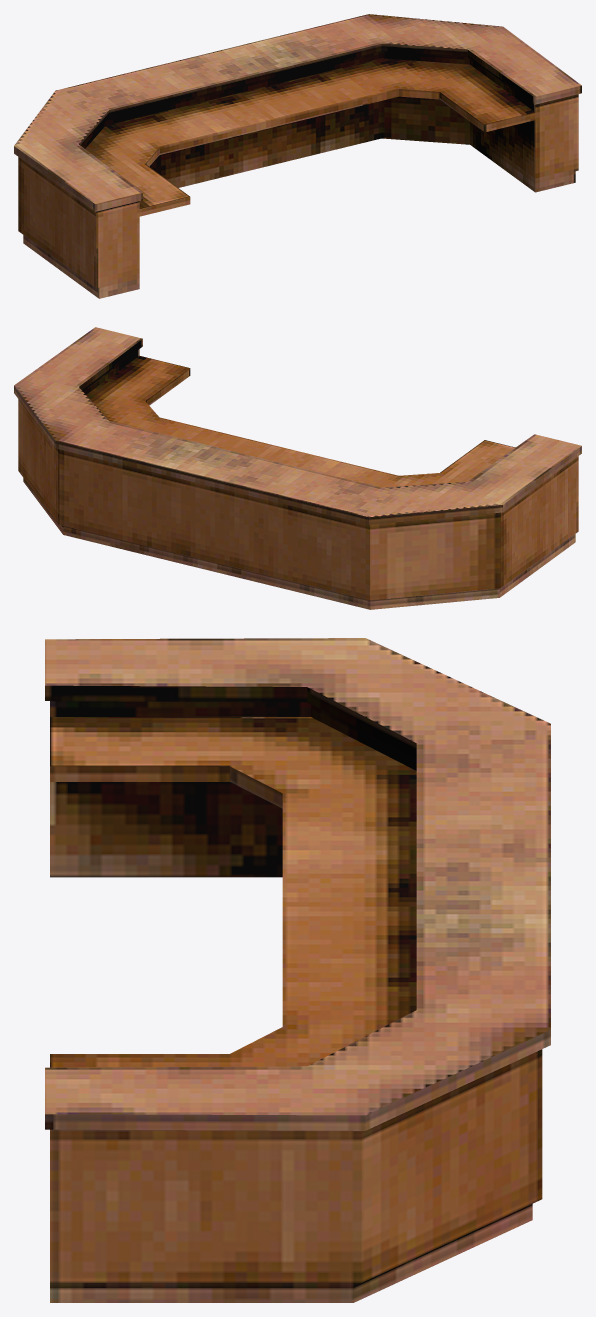
Rendered from SM_ReceptionDesk.fbx.
The picture shows the model from 3 angles, top to bottom: view 1: azimuth 30°, elevation 25°; view 2: azimuth 150°, elevation 25°; view 3: azimuth 270°, elevation 25°; orthographic projection. The views are drawn at different scales.
Visible parts, largest first — view 1: SM_ReceptionDesk; view 2: SM_ReceptionDesk; view 3: SM_ReceptionDesk.
Boxes of the visible parts, x1,y1,x2,y2 form: SM_ReceptionDesk: (14, 14, 581, 298); SM_ReceptionDesk: (14, 327, 581, 609); SM_ReceptionDesk: (45, 638, 550, 1302).
Size of the model in its own units: 551 by 104 by 247.
